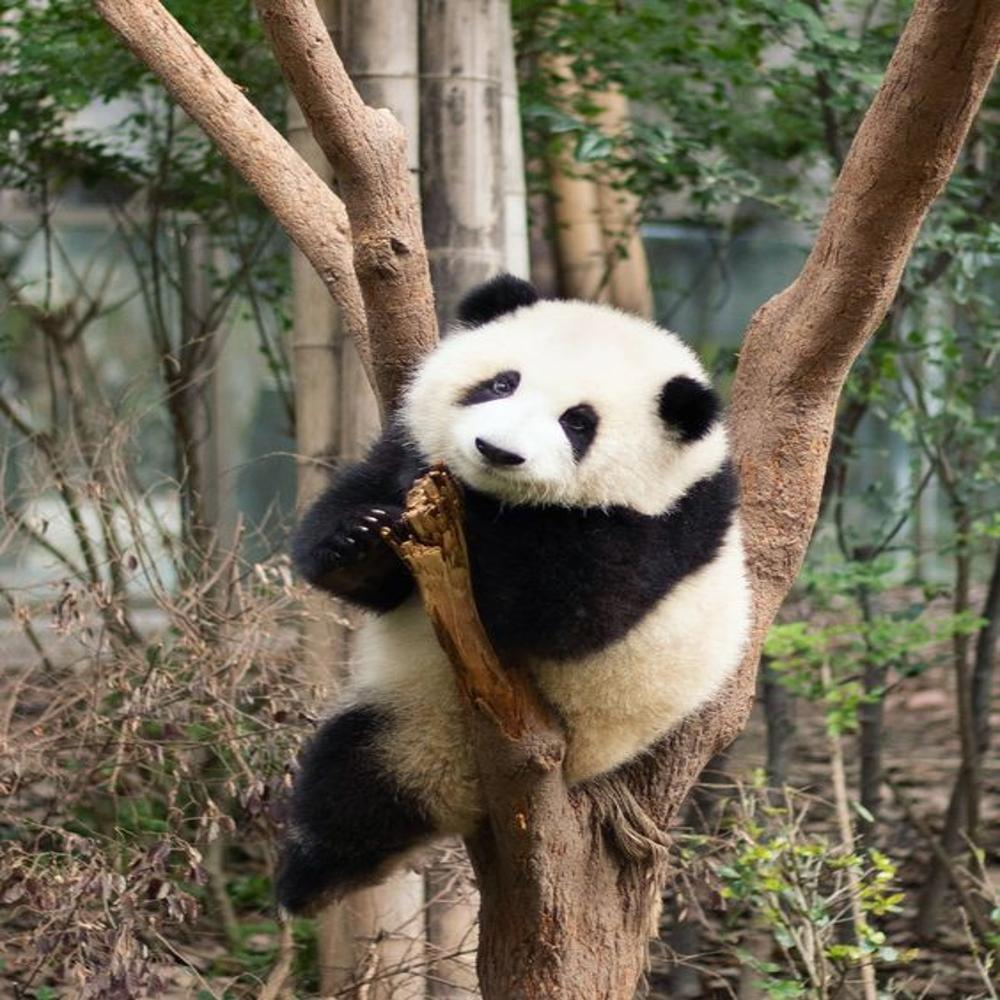panda: (282, 272, 749, 890)
